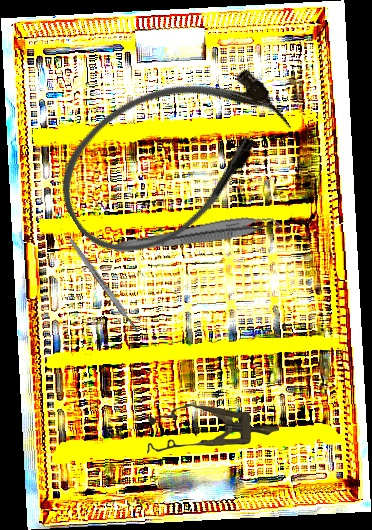Cannula: (34, 34, 310, 281)
Scalpel Handle: (67, 237, 141, 334)
Speculum: (147, 404, 279, 454)
Tissue Forceps: (113, 209, 283, 264)
